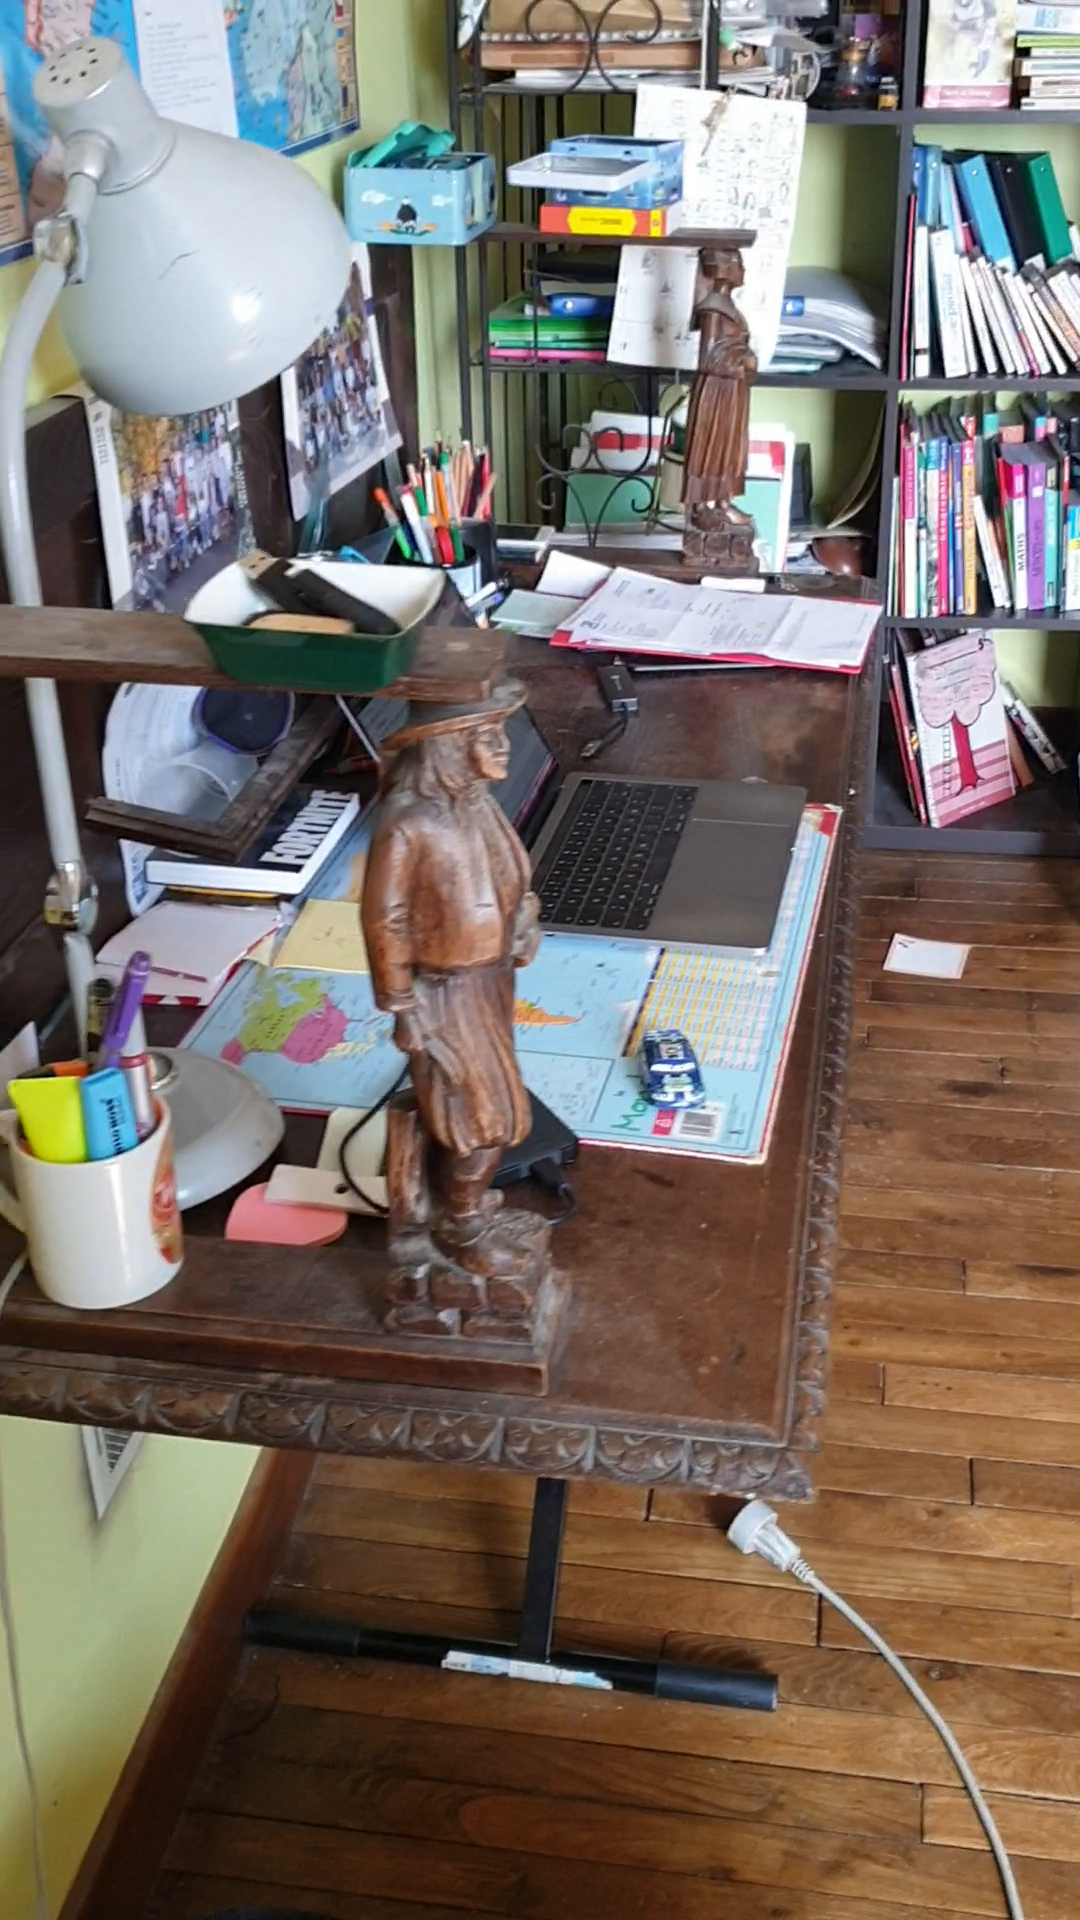cars: (638, 1029, 705, 1106)
